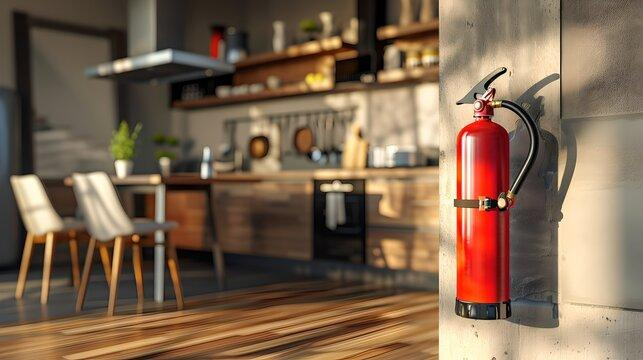wall-mounted: (449, 58, 533, 333)
